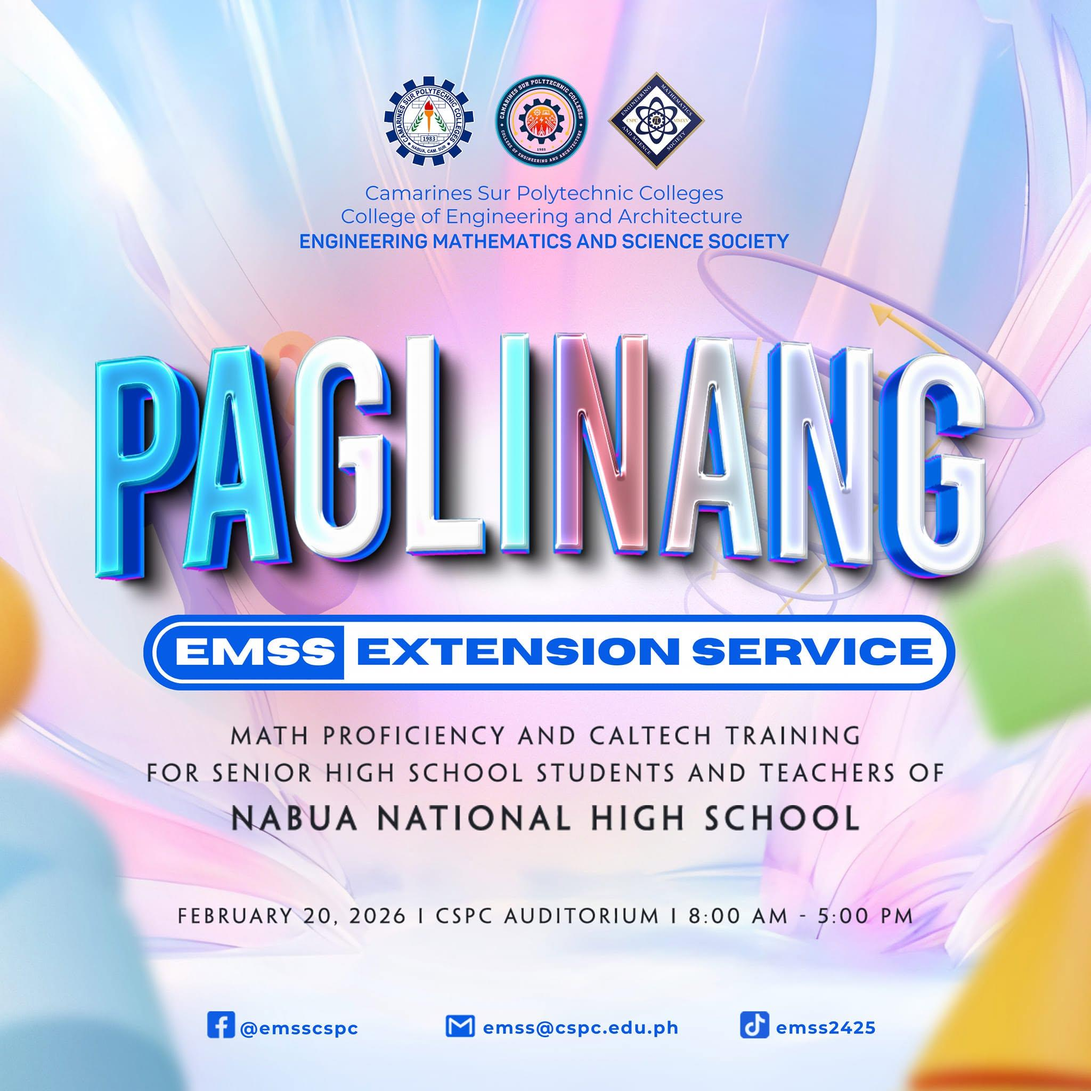embellishment: (740, 1010, 770, 1039), (206, 1010, 235, 1039), (445, 1014, 475, 1038)
logo: (608, 72, 705, 170), (494, 74, 588, 168), (383, 75, 474, 167)
text: (96, 332, 986, 581), (146, 726, 944, 832), (143, 615, 956, 690), (300, 184, 789, 251), (353, 629, 939, 672), (178, 907, 912, 927), (172, 638, 337, 666), (482, 1019, 678, 1039), (239, 1019, 358, 1039), (776, 1019, 875, 1035)
underlay: (143, 615, 956, 690)
